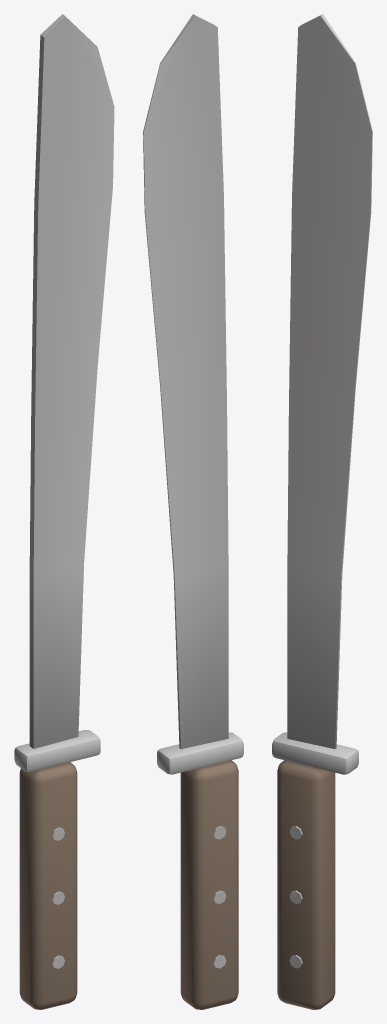
Rendered from machete.glb.
The picture shows the model from 3 angles, left to right: view 1: azimuth 30°, elevation 25°; view 2: azimuth 210°, elevation 25°; view 3: azimuth 330°, elevation 25°; orthographic projection.
Parts seen in each view (by area): view 1: Body_lod0; view 2: Body_lod0; view 3: Body_lod0.
Boxes of the visible parts, box(x1,y1,x2,y2) form: Body_lod0: box(14, 14, 114, 1009); Body_lod0: box(143, 14, 243, 1009); Body_lod0: box(272, 14, 372, 1009).
Size of what is drawn, in the model's own units: 0.062 by 0.615 by 0.024.
